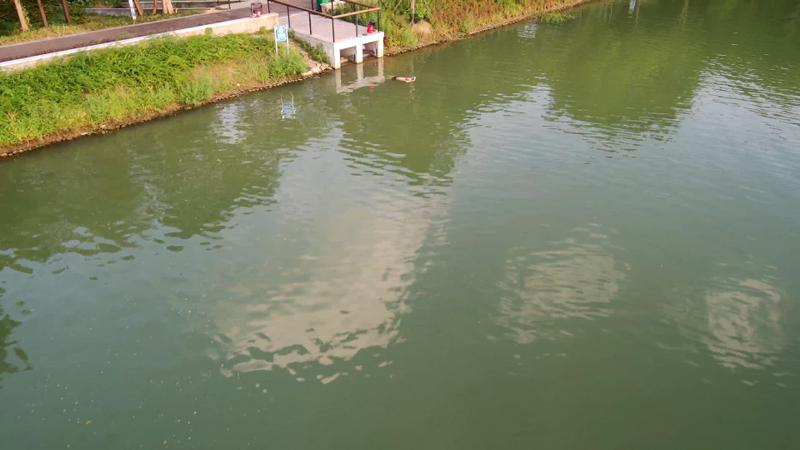swimmers: (385, 74, 417, 84)
